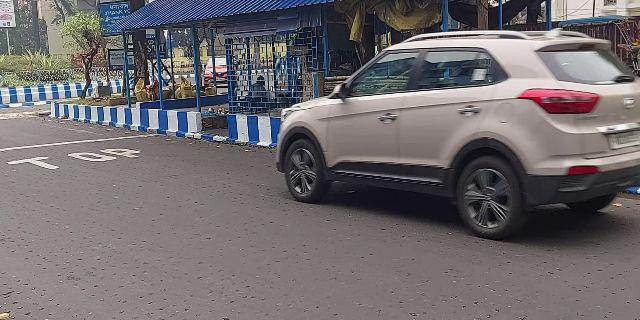Car: (272, 35, 640, 237)
